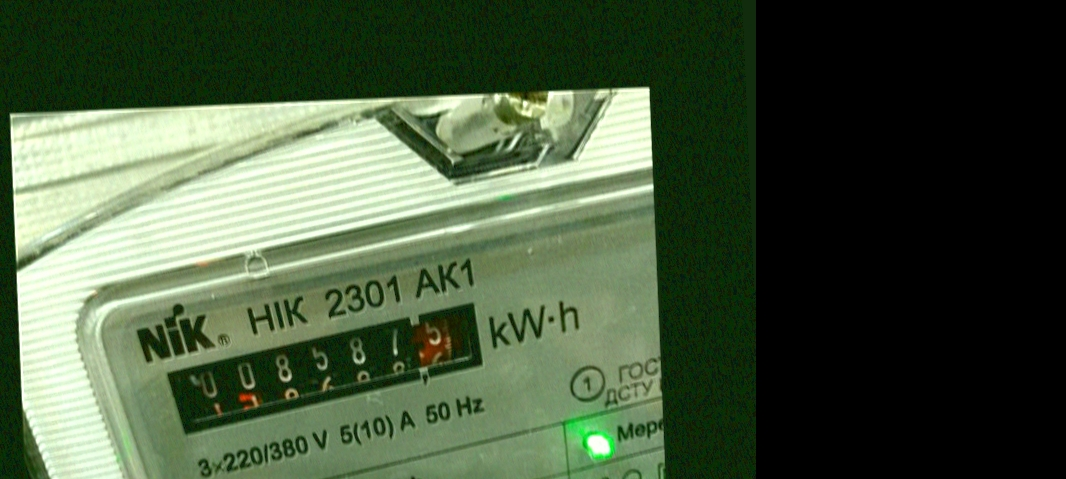0: (233, 356, 260, 391), (195, 366, 222, 399)
5: (308, 340, 332, 372), (421, 314, 444, 346)
6: (427, 349, 446, 366)
7: (382, 324, 406, 359)
8: (271, 351, 297, 384), (345, 333, 369, 367)
screen: (156, 300, 507, 437)
